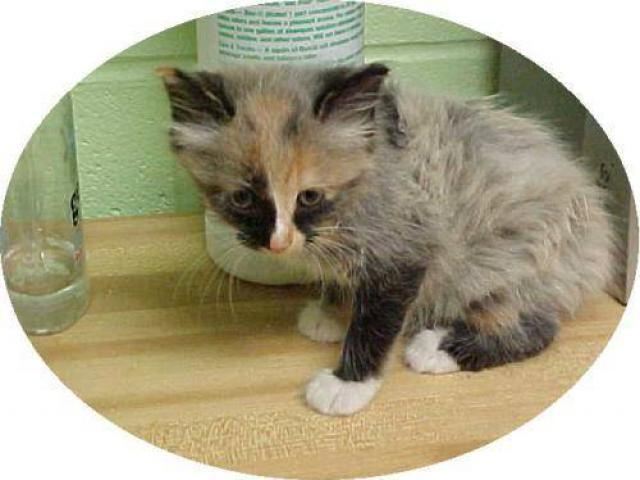cat: (144, 55, 622, 420)
